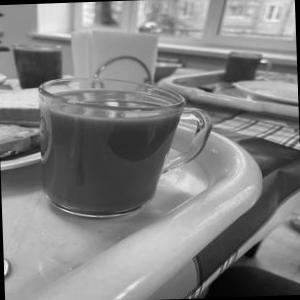coffee: (18, 60, 197, 226)
